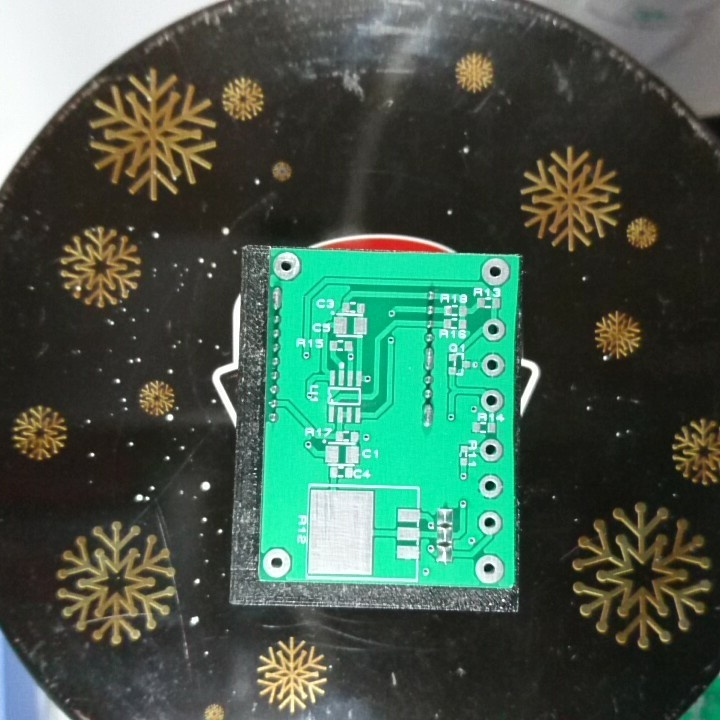F: (260, 545, 294, 580), (473, 552, 507, 586), (480, 256, 512, 290), (271, 249, 302, 283), (479, 315, 509, 344), (477, 472, 506, 502), (476, 507, 505, 536), (478, 350, 508, 378), (479, 387, 507, 415), (478, 437, 505, 465)
P: (269, 283, 285, 311), (421, 402, 436, 431), (423, 345, 435, 372)
